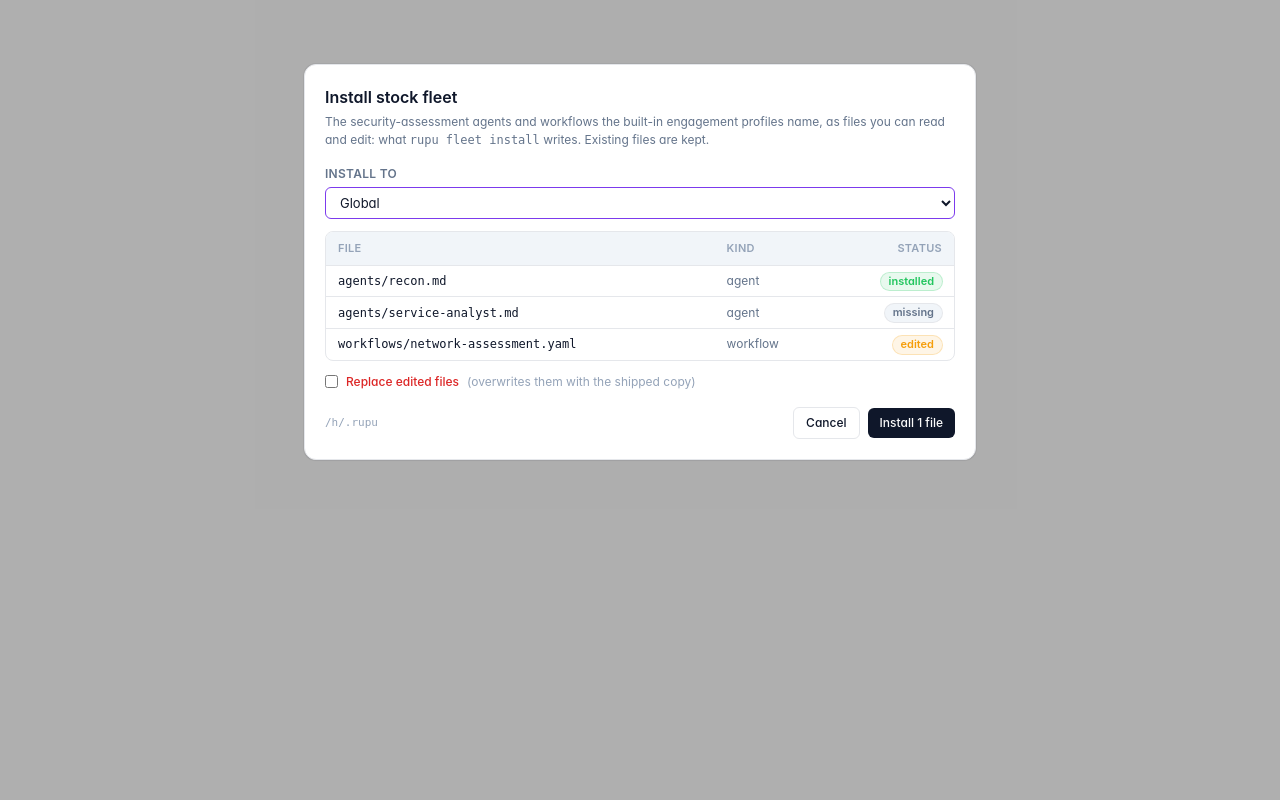
Test: FleetInstallDialog › installs, shows the pending state, then the refreshed statuses
This screenshot has width=1280, height=800.
Click the button "Install 1 file" at x=911, y=423, box [868, 408, 955, 438]
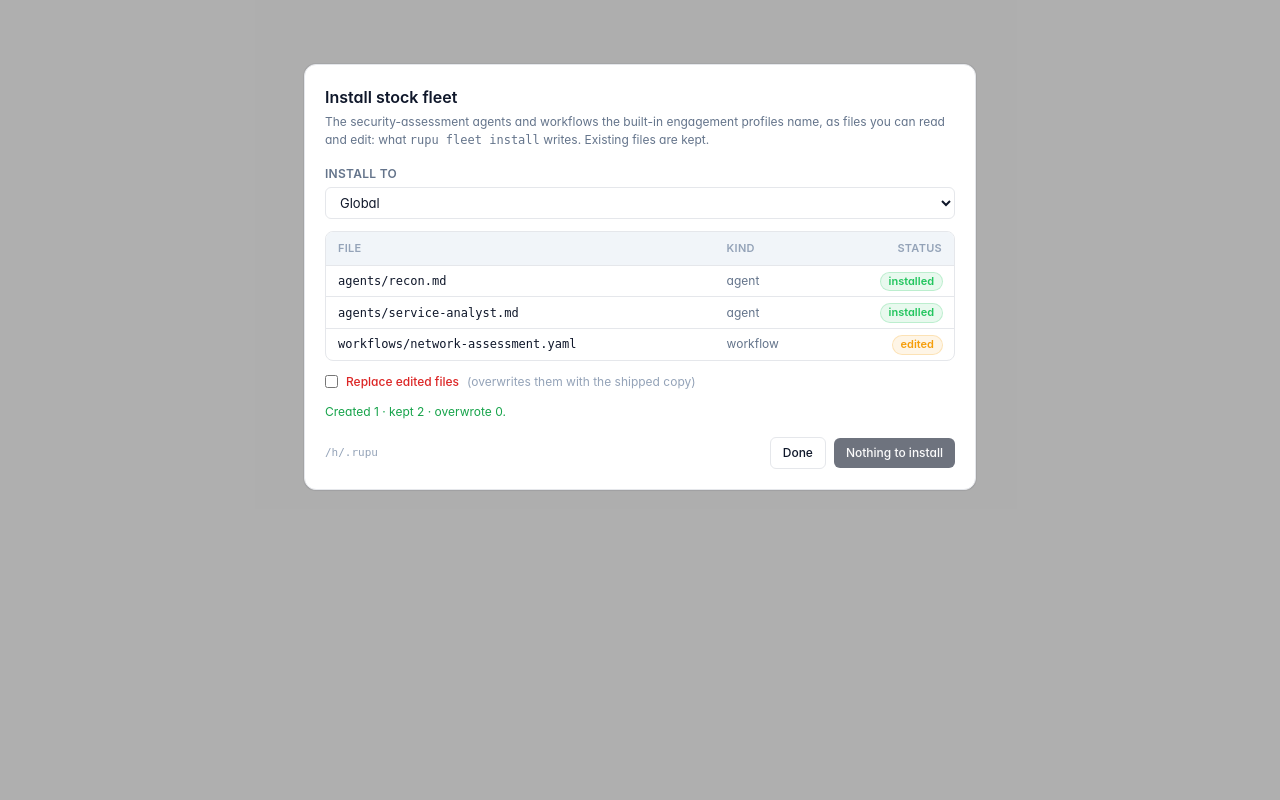
expect the button named "Installing…" is disabled: met, box [834, 438, 955, 468]
expect the text "missing" is gone: met
